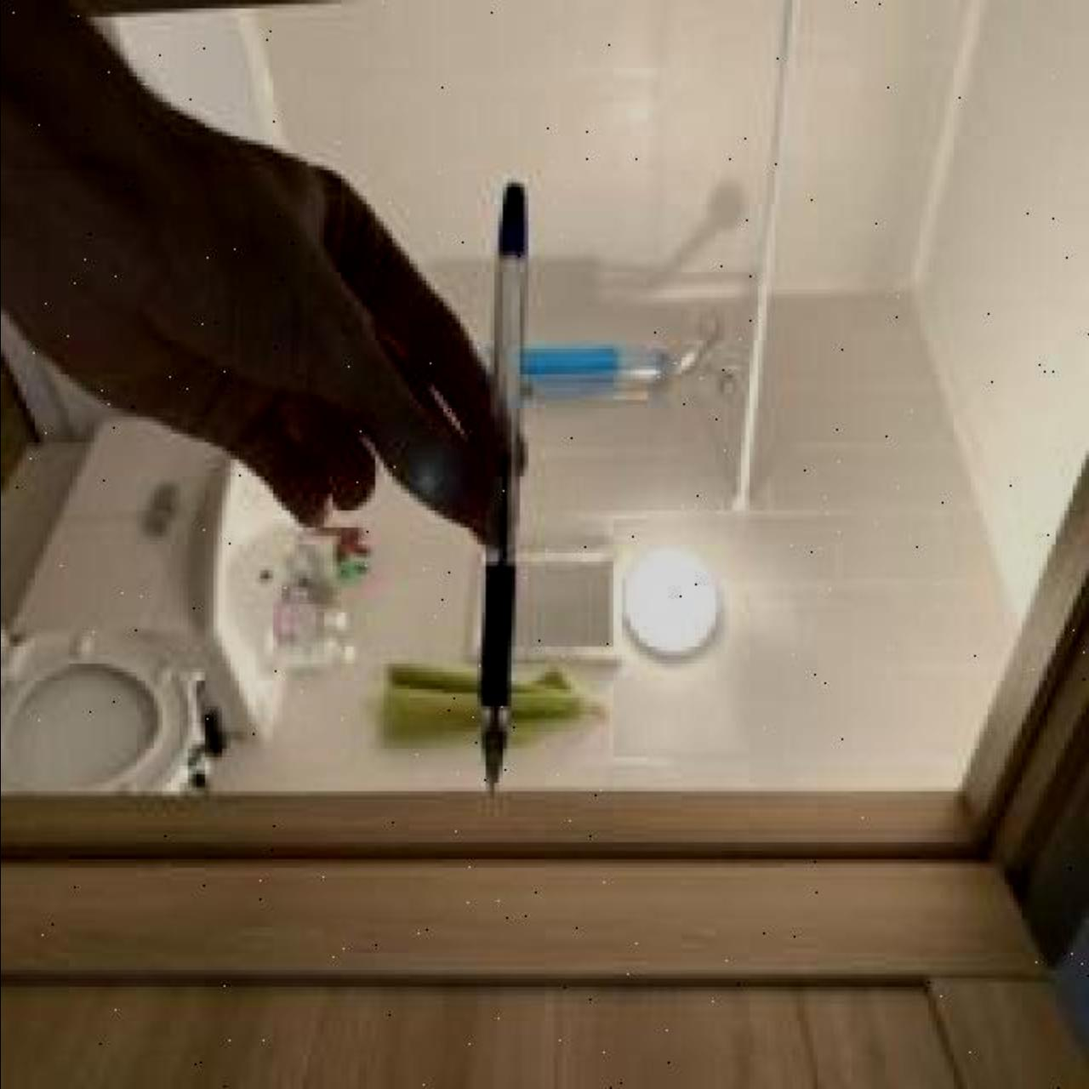pen: (476, 187, 536, 796)
